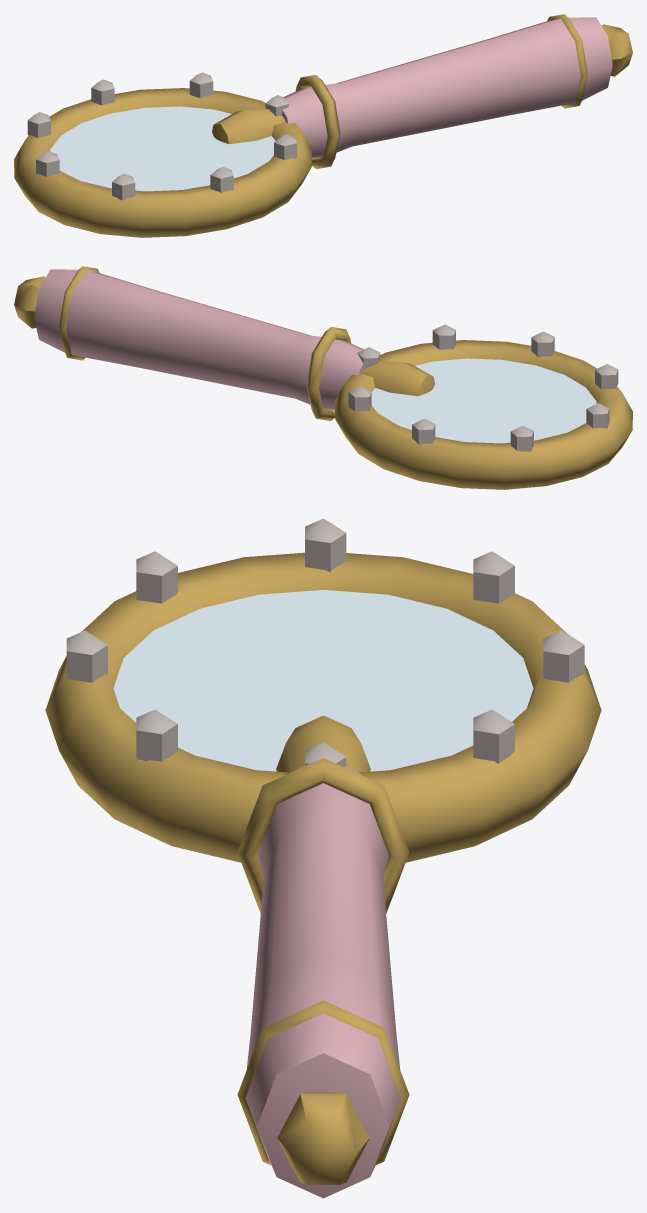
The model's file is magnifier_glass.glb.
The picture shows the model from 3 angles, top to bottom: view 1: azimuth 30°, elevation 25°; view 2: azimuth 150°, elevation 25°; view 3: azimuth 270°, elevation 25°; orthographic projection. The views are drawn at different scales.
Parts seen in each view (by area): view 1: magnifier_glass; view 2: magnifier_glass; view 3: magnifier_glass.
Boxes of the visible parts, box(x1,y1,x2,y2) form: magnifier_glass: box(14, 14, 632, 237); magnifier_glass: box(14, 266, 632, 489); magnifier_glass: box(45, 518, 601, 1198).
Size of what is drawn, in the model's own units: 0.2 by 0.03 by 0.08.
